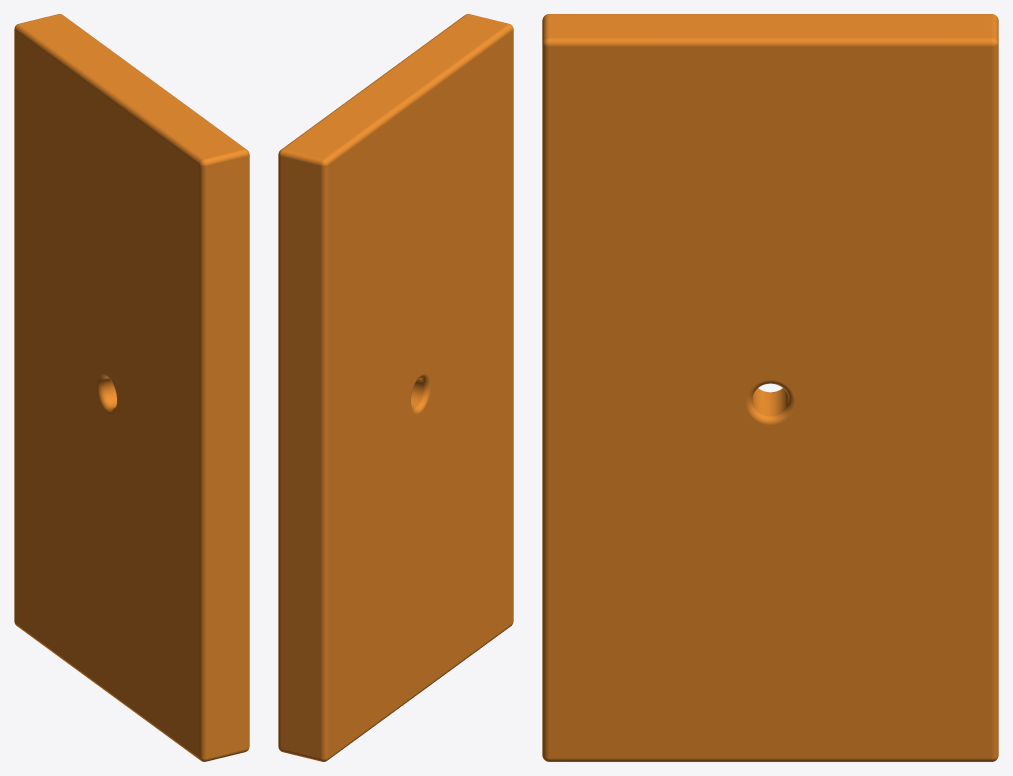
The model's file is pin_plate.obj.
3 renders of one model, left to right at view 1: azimuth 30°, elevation 25°; view 2: azimuth 150°, elevation 25°; view 3: azimuth 270°, elevation 25°, orthographic. The views are drawn at different scales.
Visible parts, largest first — view 1: plate; view 2: plate; view 3: plate.
Boxes of the visible parts, x1=… form: plate: x1=14, y1=14, x2=249, y2=761; plate: x1=278, y1=14, x2=513, y2=761; plate: x1=542, y1=14, x2=998, y2=761.
Size of the model in its own units: 0.006 by 0.07 by 0.04.
